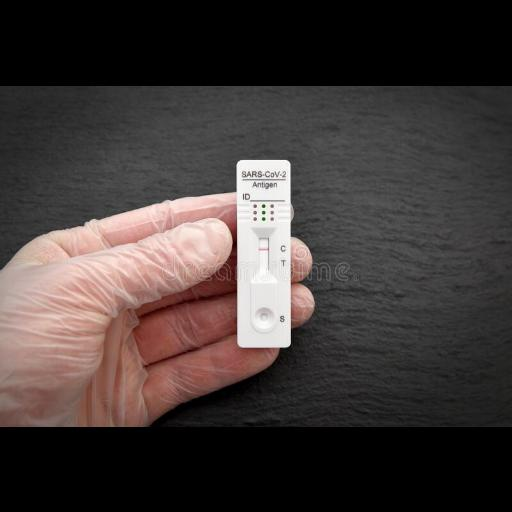Neg: (236, 158, 292, 346)
